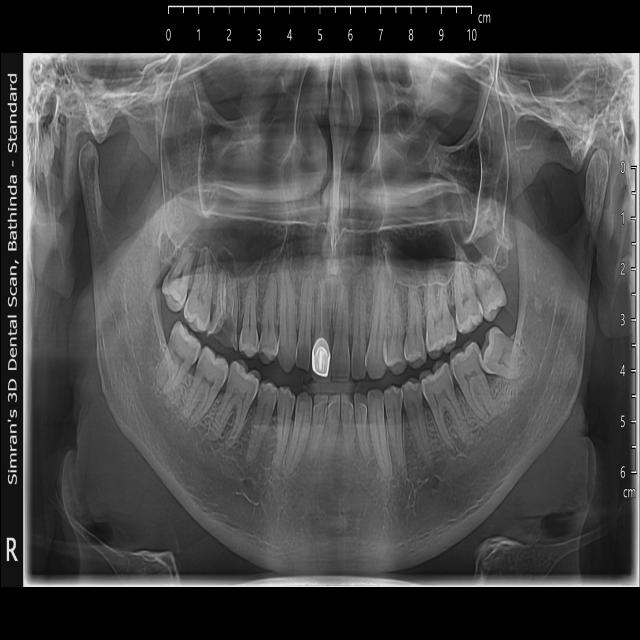Crown: (312, 338, 330, 379)
Mandibular Canal: (437, 290, 570, 491), (118, 295, 250, 495)
Periapical lesion: (215, 246, 236, 279)
Root Canal Treatment: (217, 262, 222, 315), (223, 273, 227, 317), (321, 286, 324, 341), (230, 283, 234, 318)
maxillary sinus: (159, 63, 296, 282), (377, 79, 511, 286)
